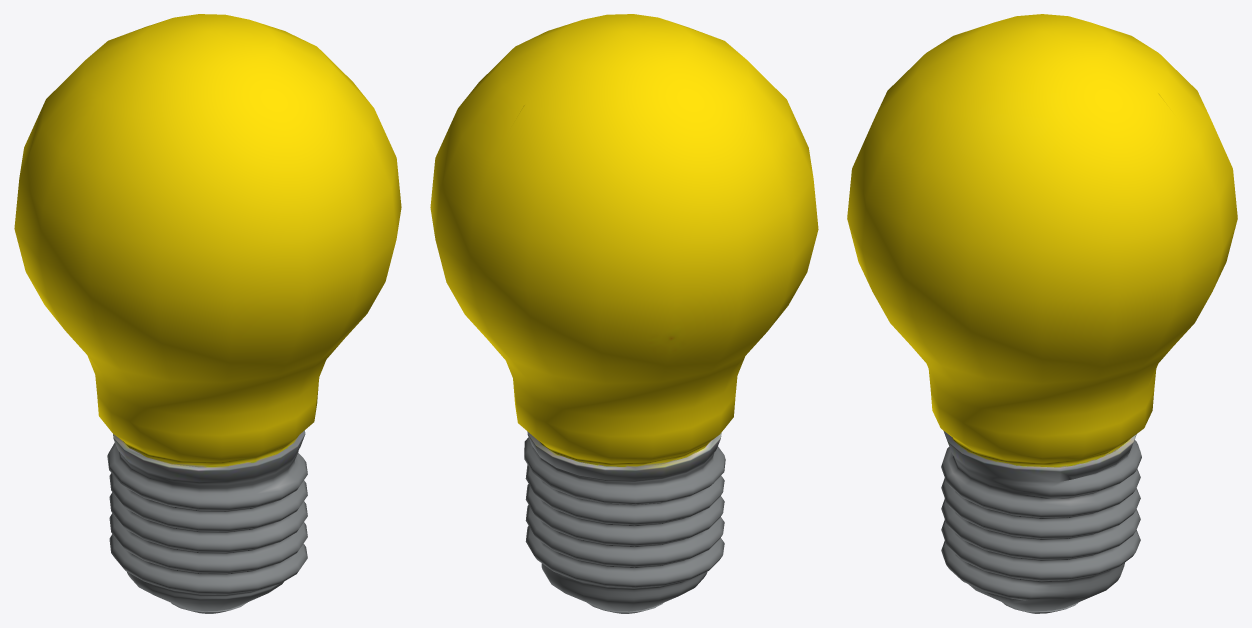
Rendered from LightBulb.glb.
3 views of the same model, side by side, from view 1: azimuth 30°, elevation 25°; view 2: azimuth 150°, elevation 25°; view 3: azimuth 270°, elevation 25° (orthographic).
Visible parts, largest first — view 1: Free 3D Glass Light Bulb OBJ; view 2: Free 3D Glass Light Bulb OBJ; view 3: Free 3D Glass Light Bulb OBJ.
Boxes of the visible parts, x1=… form: Free 3D Glass Light Bulb OBJ: x1=14, y1=14, x2=401, y2=613; Free 3D Glass Light Bulb OBJ: x1=430, y1=14, x2=818, y2=613; Free 3D Glass Light Bulb OBJ: x1=847, y1=14, x2=1237, y2=613.
Bounding box in the file's own units: 1.27 × 2.05 × 1.27.
Materials: 1 (1 with a texture image).
